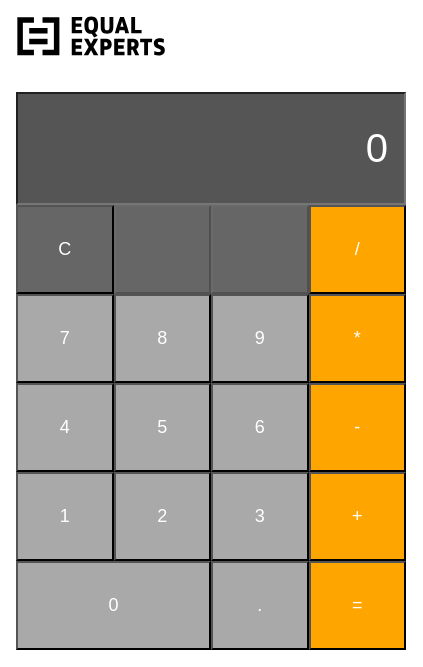
Test: render, input & clear related tests: › it prepends a leading decimal point with zero
Click the button ".": (260, 606) [211, 561, 308, 650]
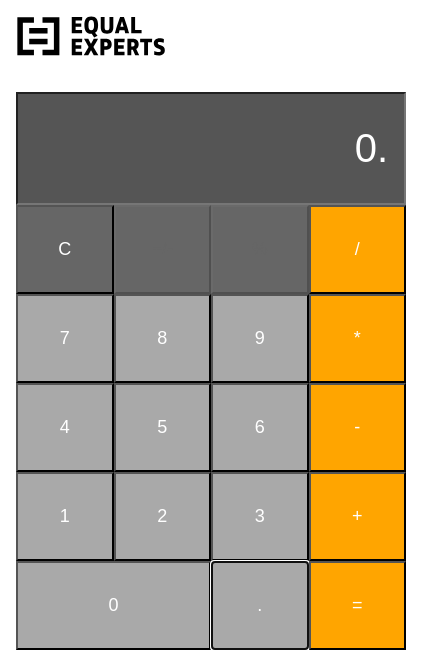
Now the field holds "0.", box [16, 92, 406, 205]
